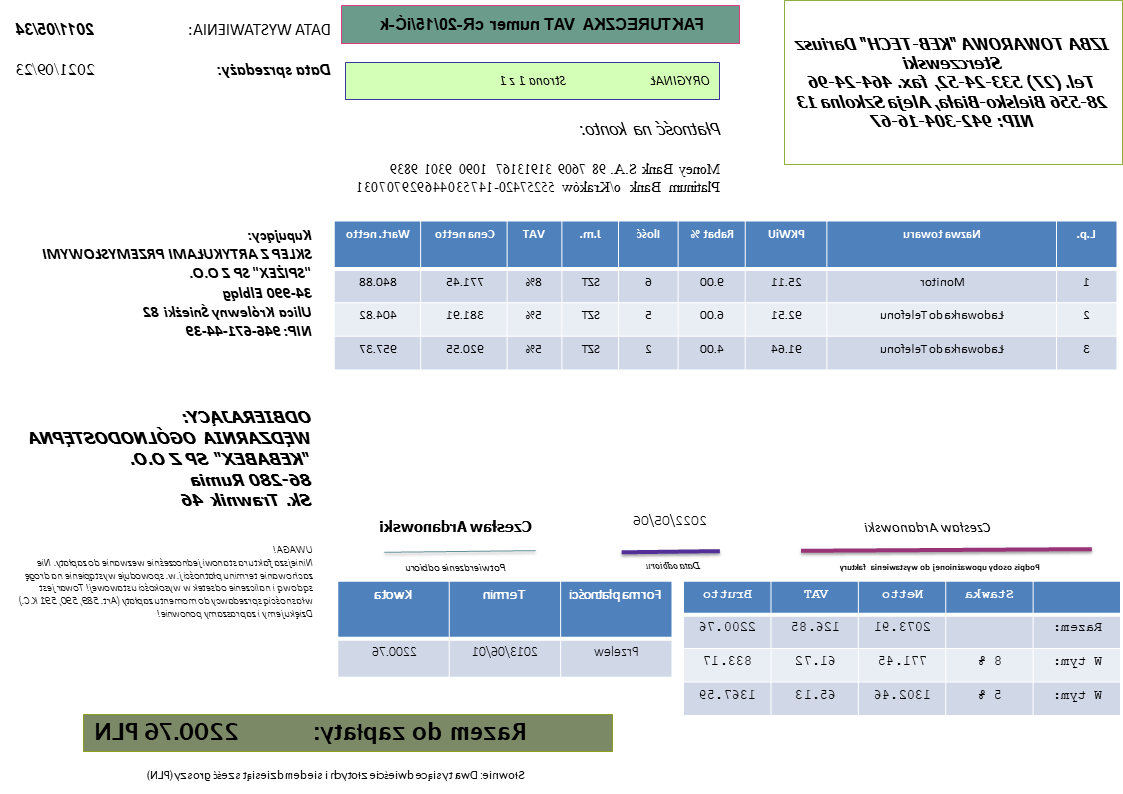Table: (332, 218, 1119, 372), (682, 579, 1122, 717), (336, 578, 674, 679)
TextBox: (37, 224, 316, 341), (793, 31, 1113, 133), (25, 407, 315, 511), (16, 540, 316, 622), (353, 158, 725, 196), (92, 718, 530, 747), (144, 766, 529, 785), (376, 12, 706, 34), (498, 69, 714, 90), (577, 117, 725, 140), (376, 515, 536, 536), (836, 559, 1045, 574), (187, 18, 334, 39), (861, 516, 993, 536), (215, 59, 333, 81), (12, 18, 97, 39), (14, 59, 98, 79), (403, 560, 510, 575), (632, 511, 709, 530), (643, 558, 705, 572)
